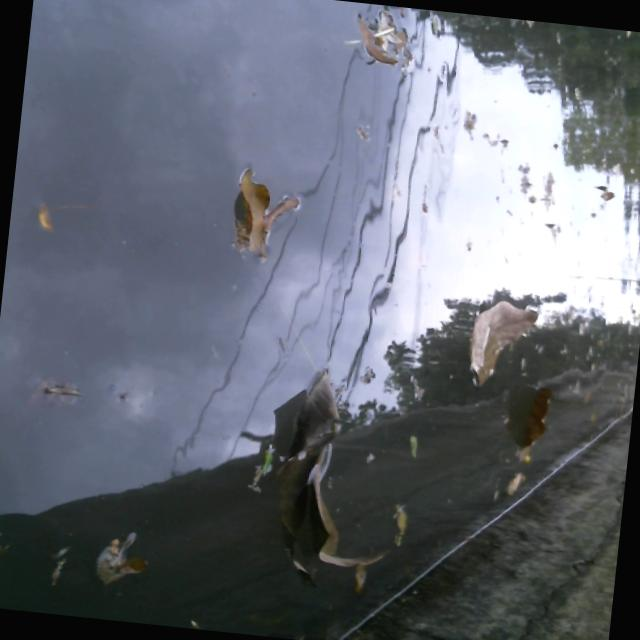Big-leaf: (259, 359, 357, 585), (302, 437, 398, 573), (461, 293, 547, 396), (498, 381, 567, 470)
Small-leaf: (225, 163, 303, 267), (346, 10, 428, 72), (89, 528, 137, 595), (31, 372, 80, 408), (25, 202, 62, 238), (347, 123, 371, 143)
